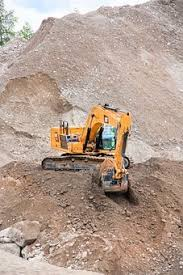excavator: (41, 102, 132, 196)
